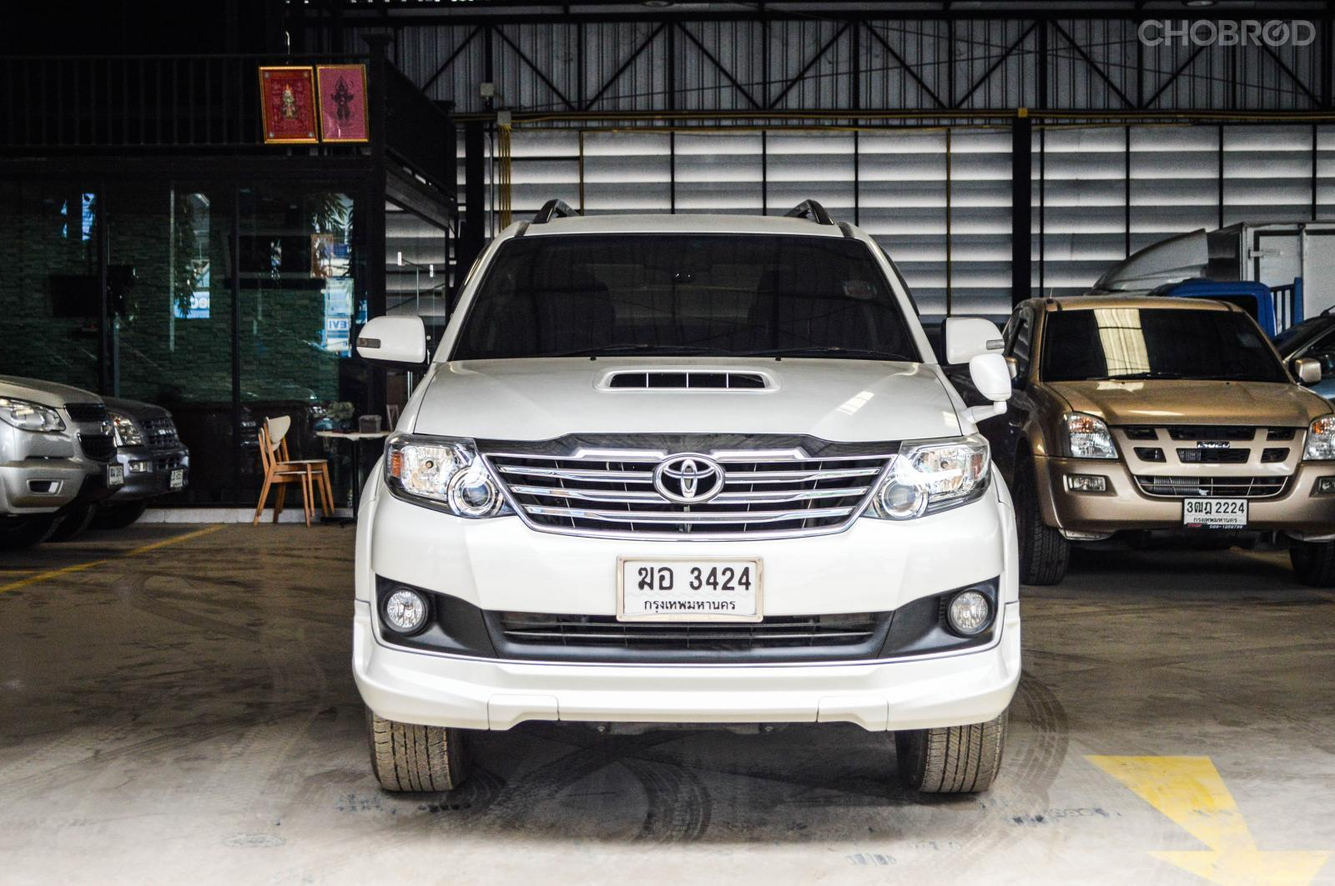license-plate: (615, 555, 767, 622)
